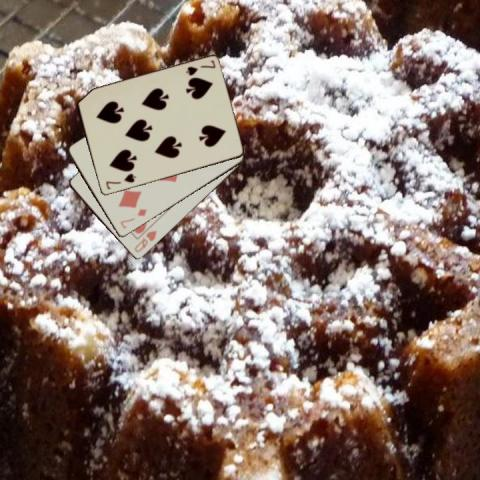7d: (117, 206, 148, 230)
7s: (103, 170, 137, 190), (183, 58, 216, 78)
Qh: (131, 228, 158, 254)
